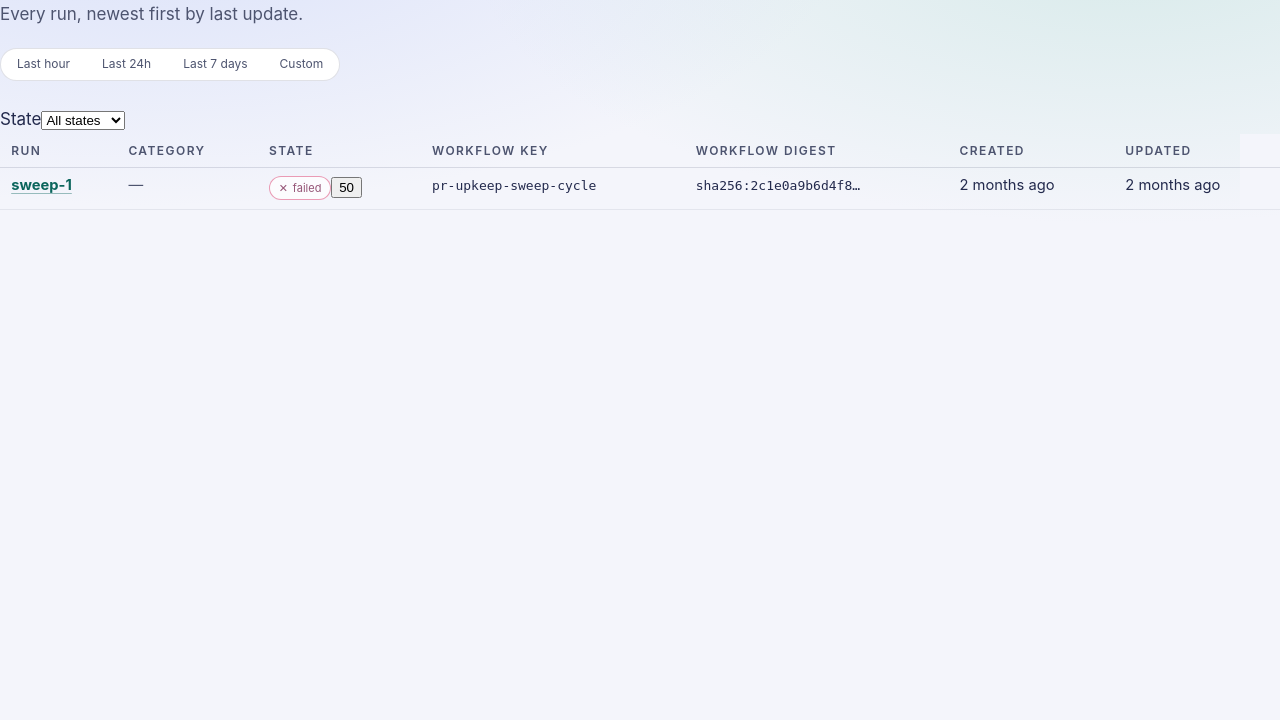
Test: RunsList data + table › collapses 50 consecutive failed runs of one workflow and shows its workflow key
This screenshot has width=1280, height=720.
Expected: the number of rows is 2, [0, 134, 1279, 167]; [0, 167, 1279, 210]
Expected: the text "pr-upkeep-sweep-cycle" is shown, [432, 178, 596, 193]
Step 1. Click the button named "expand 50 failed runs" → (347,188), box [331, 177, 362, 198]
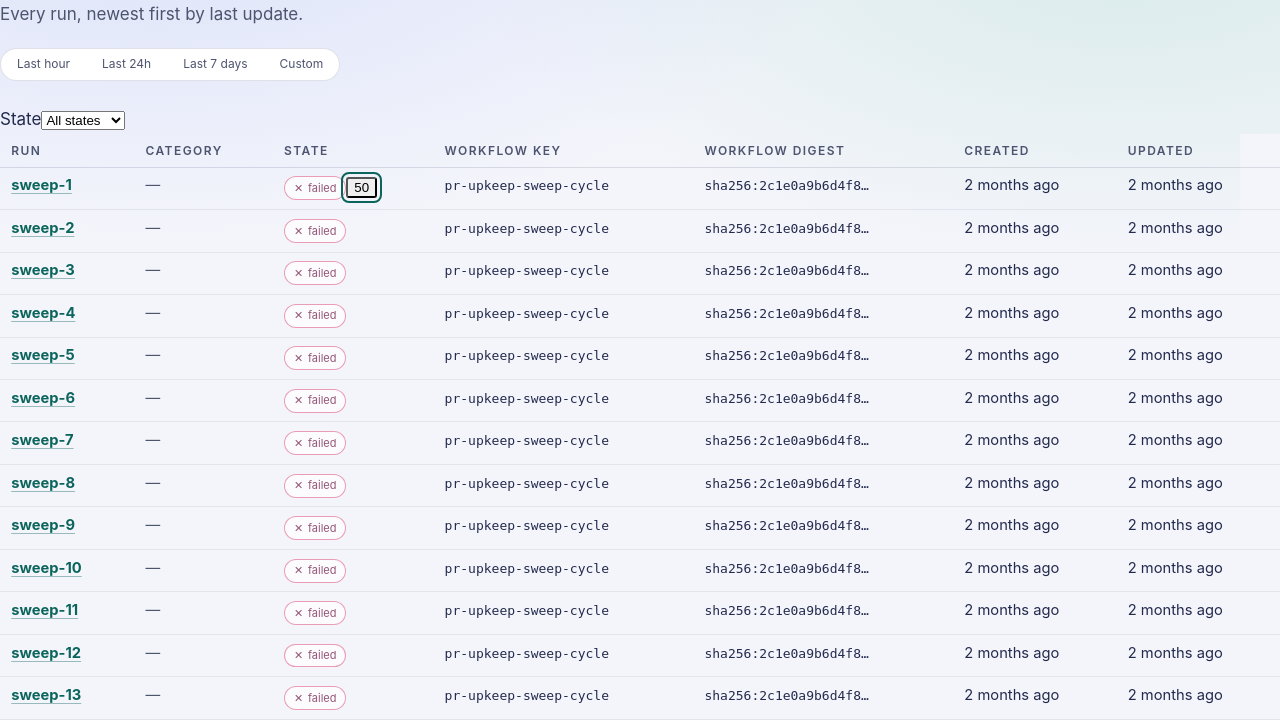
Result: the link "sweep-2" is shown at [11, 219, 74, 237]
